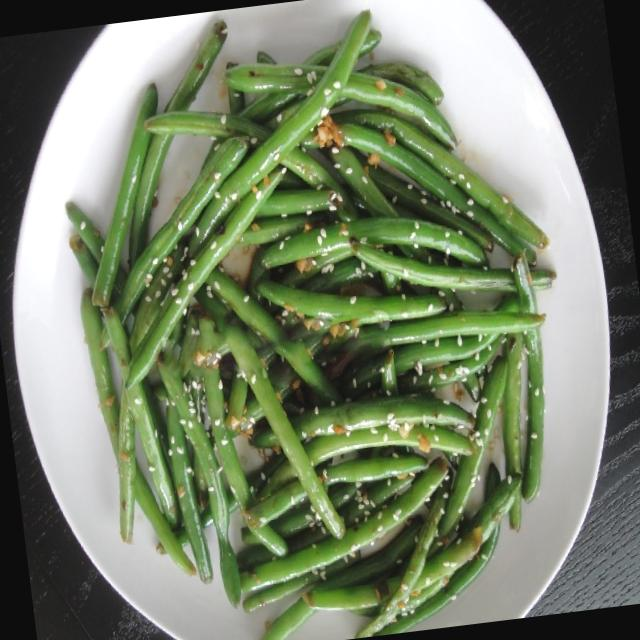dau que: (66, 12, 556, 640)
